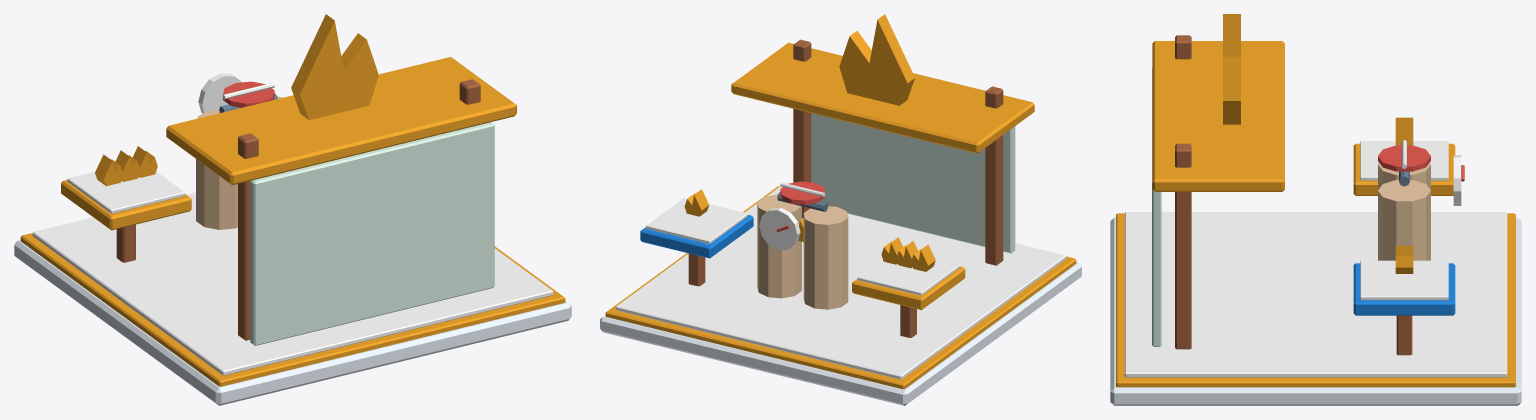
Rendered from Building_GasAmplifier_2x2_v002.fbx.
3 views of the same model, side by side, from view 1: azimuth 30°, elevation 25°; view 2: azimuth 150°, elevation 25°; view 3: azimuth 270°, elevation 25° (orthographic). The views are drawn at different scales.
Parts seen in each view (by area): view 1: FixedShell, OutputItemMesh, SecondaryToolMesh; view 2: FixedShell, OutputItemMesh, SecondaryToolMesh, InputItemMesh; view 3: FixedShell, SecondaryToolMesh, InputItemMesh, OutputItemMesh.
Part boxes in pixels (x1,y1,x2,y2): FixedShell: (14, 14, 571, 405); OutputItemMesh: (95, 146, 157, 186); SecondaryToolMesh: (222, 81, 274, 107); FixedShell: (600, 14, 1081, 405); OutputItemMesh: (881, 237, 935, 271); SecondaryToolMesh: (780, 181, 825, 204); InputItemMesh: (684, 189, 708, 216); FixedShell: (1110, 14, 1521, 405); SecondaryToolMesh: (1378, 140, 1430, 171); InputItemMesh: (1395, 245, 1413, 273); OutputItemMesh: (1395, 117, 1413, 145).
Size of the model in its own units: 186 by 152 by 186.
